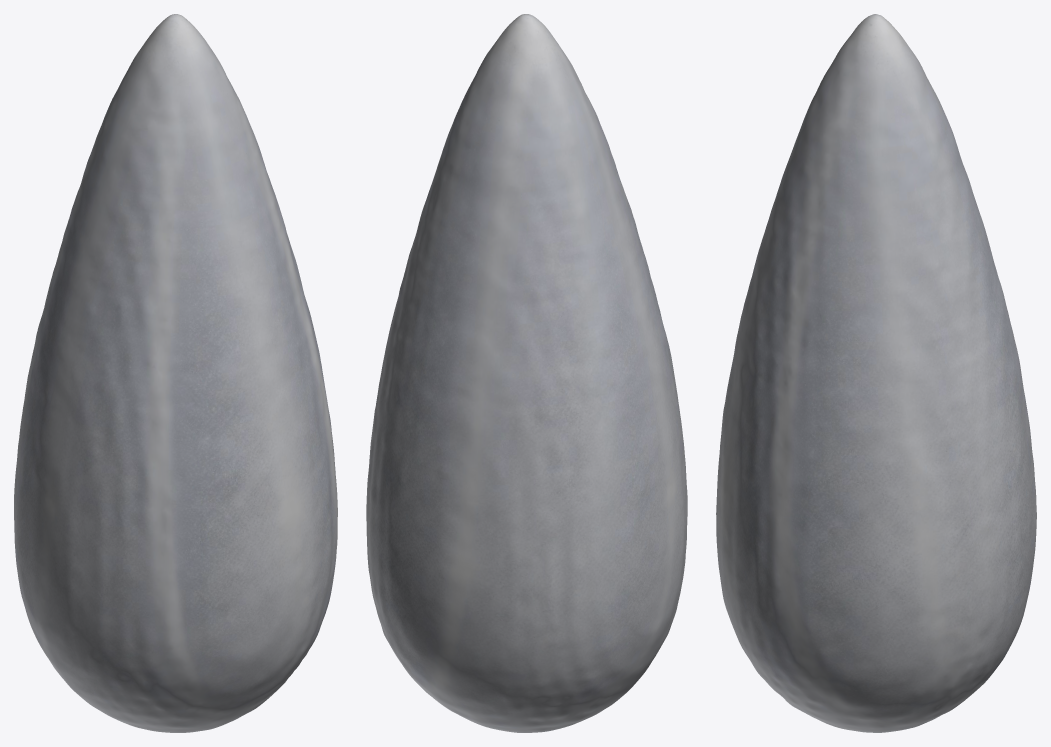
File: 42f49ca67b99_white_long_droplet_.fbx
3 renders of one model, left to right at view 1: azimuth 30°, elevation 25°; view 2: azimuth 150°, elevation 25°; view 3: azimuth 270°, elevation 25°, orthographic.
Visible parts, largest first — view 1: high_poly; view 2: high_poly; view 3: high_poly.
Part boxes in pixels (bbox=[...]): high_poly: bbox=[14, 14, 337, 732]; high_poly: bbox=[366, 14, 687, 732]; high_poly: bbox=[716, 14, 1036, 732].
Bounding box in the file's own units: 31.32 × 76.16 × 31.34.
Materials: 1 (1 with a texture image).
